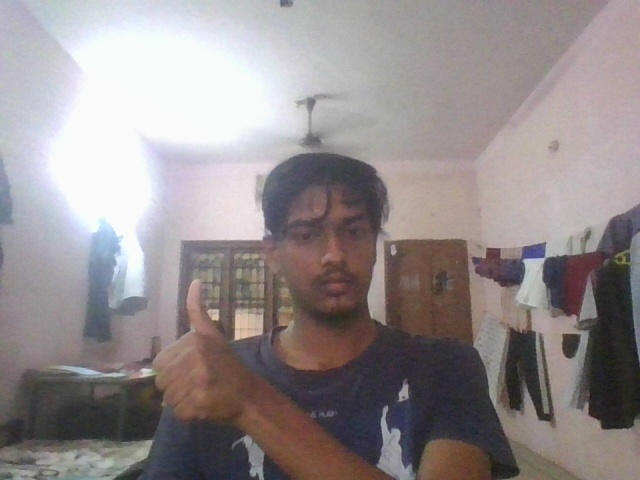thumbsup: (146, 275, 277, 433)
